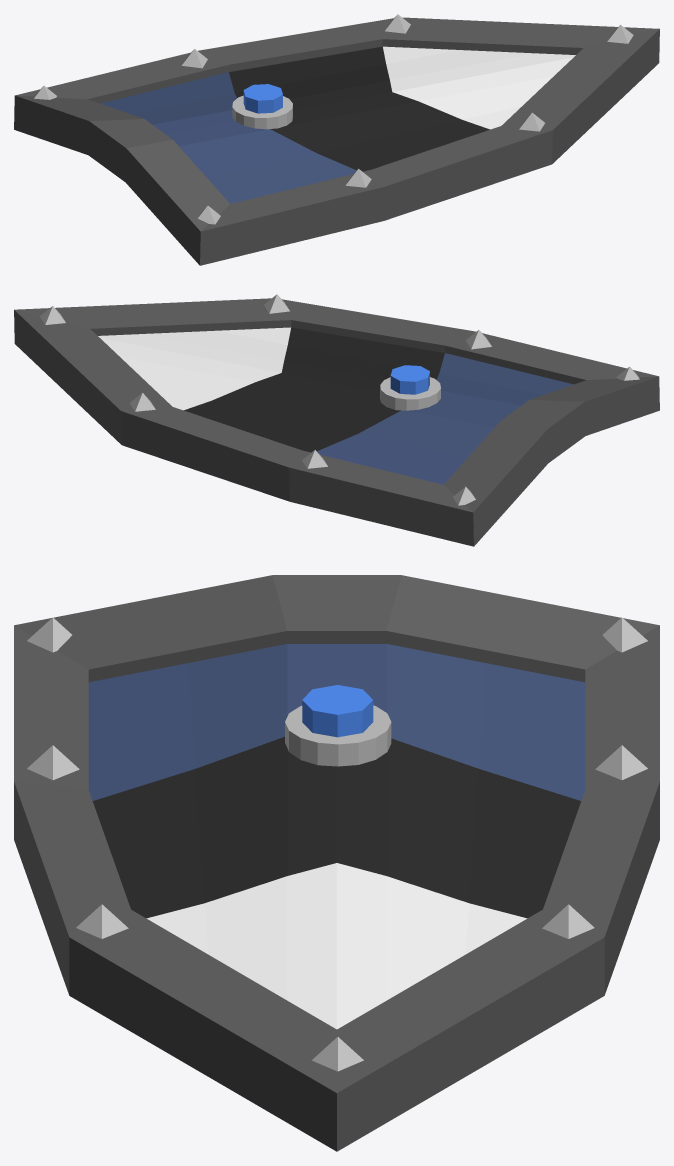
The model's file is Shield_4_d_bl.fbx.
3 views of the same model, one above another, from view 1: azimuth 30°, elevation 25°; view 2: azimuth 150°, elevation 25°; view 3: azimuth 270°, elevation 25° (orthographic). The views are drawn at different scales.
Parts seen in each view (by area): view 1: Plane.293, Plane.289, Plane.292, Plane.288, Circle.394, Circle.393; view 2: Plane.293, Plane.289, Plane.292, Plane.288, Circle.394, Circle.393; view 3: Plane.293, Plane.289, Plane.292, Plane.288, Circle.394, Circle.393, Cone.499, Cone.500, Cone.495, Cone.496, Cone.494, Cone.497 (+1 smaller).
Part boxes in pixels (x1,y1,x2,y2): Plane.293: [14, 17, 659, 265]; Plane.289: [229, 46, 489, 171]; Plane.292: [100, 72, 356, 203]; Plane.288: [383, 46, 575, 129]; Circle.394: [232, 95, 292, 129]; Circle.393: [243, 84, 282, 113]; Plane.293: [14, 298, 659, 546]; Plane.289: [184, 327, 444, 452]; Plane.292: [317, 353, 573, 484]; Plane.288: [98, 327, 290, 410]; Circle.394: [380, 377, 440, 410]; Circle.393: [390, 365, 429, 394]; Plane.293: [14, 575, 659, 1151]; Plane.289: [92, 736, 581, 918]; Plane.292: [88, 644, 585, 800]; Plane.288: [146, 863, 527, 1029]; Circle.394: [285, 705, 391, 766]; Circle.393: [302, 685, 373, 737]; Cone.499: [27, 745, 79, 779]; Cone.500: [595, 745, 647, 779]; Cone.495: [542, 904, 594, 938]; Cone.496: [76, 904, 128, 938]; Cone.494: [311, 1037, 363, 1071]; Cone.497: [602, 617, 647, 652].
Bounding box in the file's own units: 78.1 × 17.09 × 45.5.
